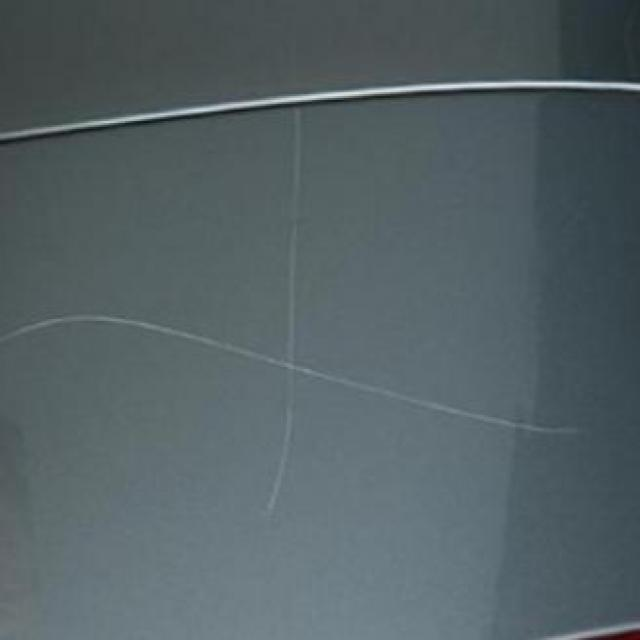scratch: (3, 312, 598, 454), (254, 89, 316, 526)
